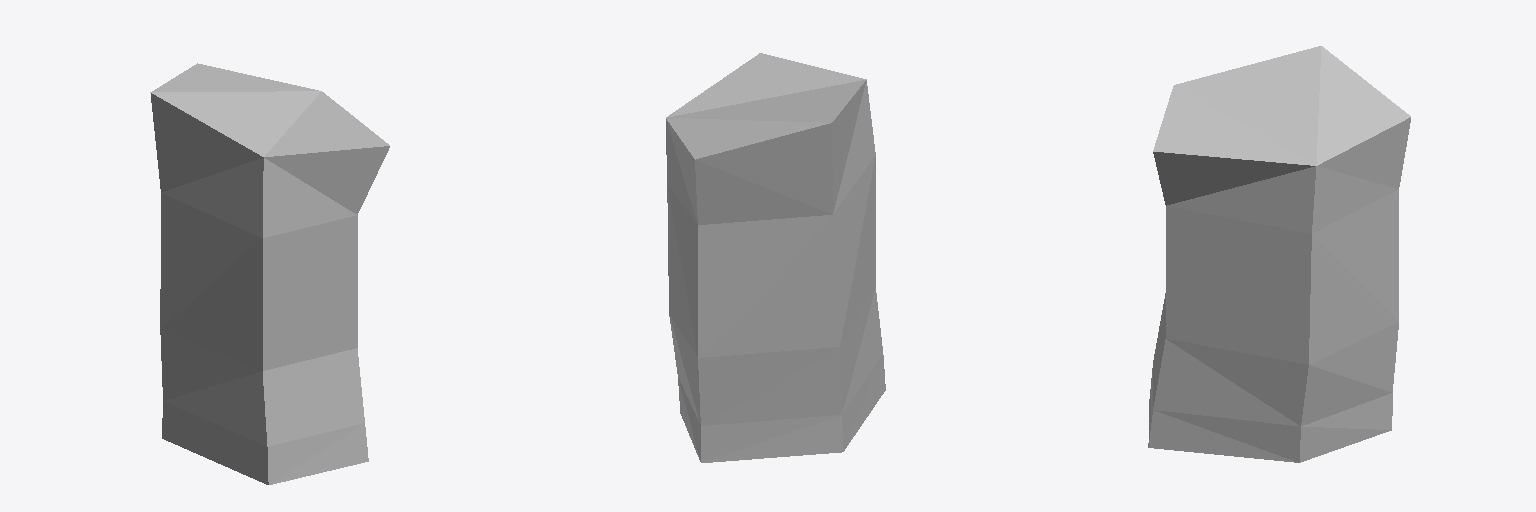
The model's file is astronauta_reloded_rightlegtop.obj.
3 renders of one model, left to right at view 1: azimuth 30°, elevation 25°; view 2: azimuth 150°, elevation 25°; view 3: azimuth 270°, elevation 25°, orthographic.
Parts seen in each view (by area): view 1: Astronauta_Cubo; view 2: Astronauta_Cubo; view 3: Astronauta_Cubo.
Part boxes in pixels (bbox=[...]): Astronauta_Cubo: bbox=[150, 63, 389, 484]; Astronauta_Cubo: bbox=[666, 53, 885, 462]; Astronauta_Cubo: bbox=[1148, 46, 1410, 462].
Size of the model in its own units: 0.1463 by 0.2786 by 0.1966.